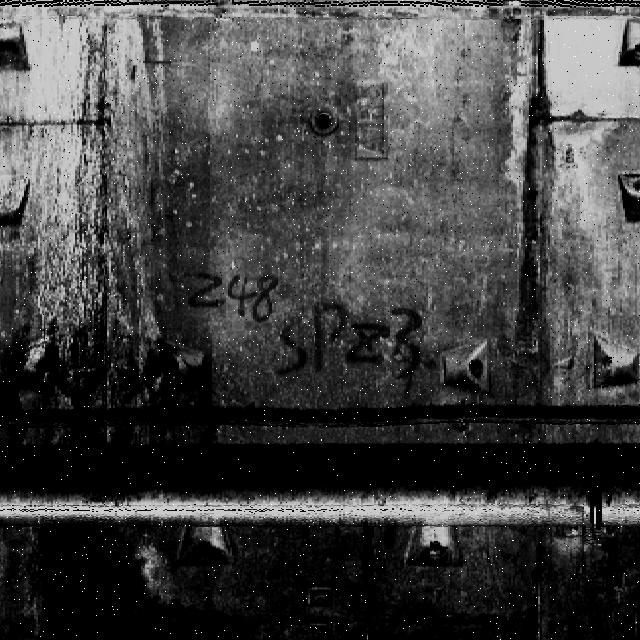leakage: (0, 2, 221, 444), (0, 512, 262, 632), (503, 4, 580, 405), (345, 517, 386, 617)
